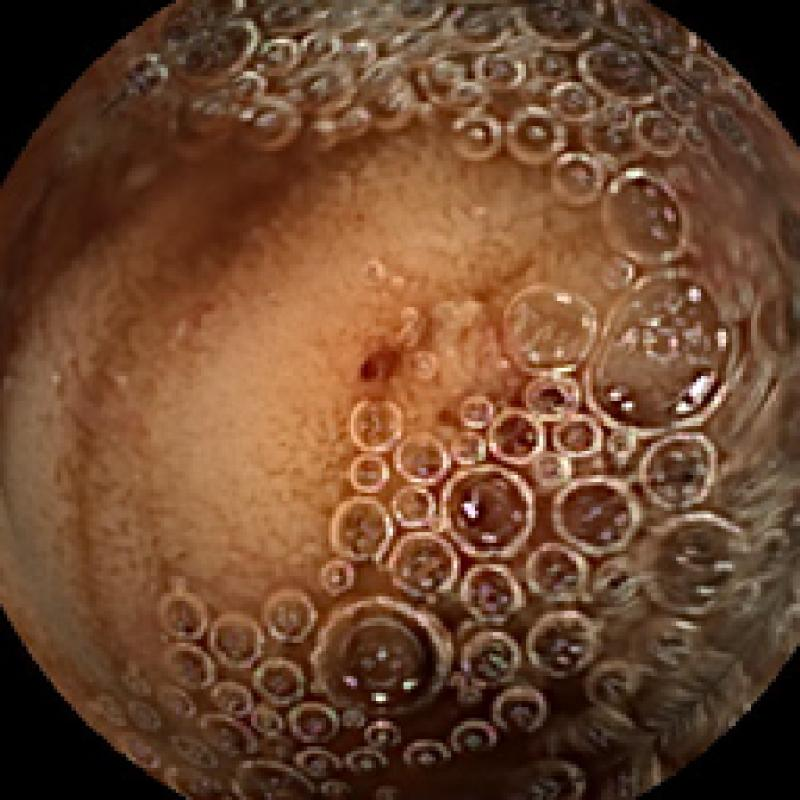bleeding: (432, 368, 643, 554), (350, 328, 421, 393)
